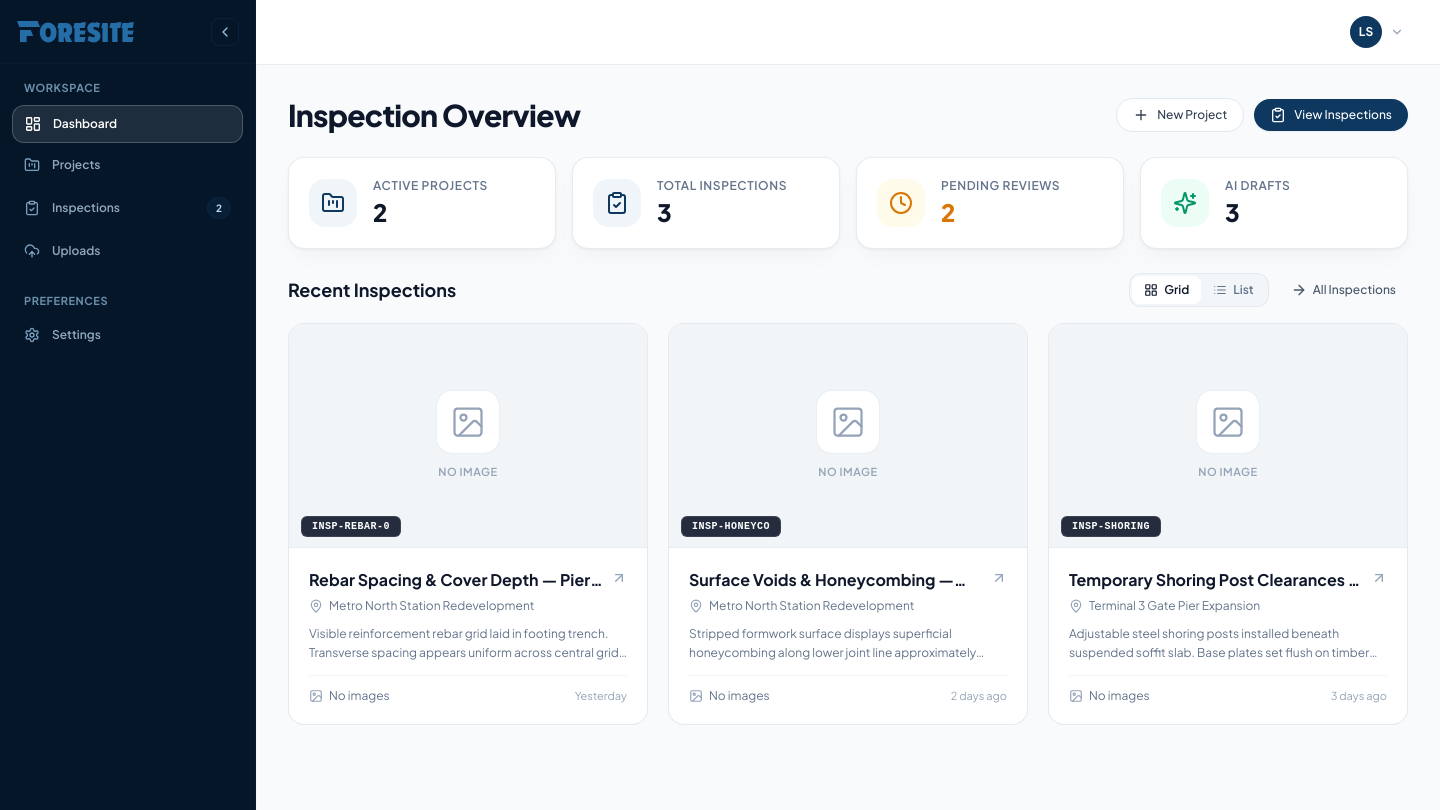
it: ForeSite Application Shell Navigation › navigates to Projects screen when Projects tab is clicked
Click the button "Projects": [128, 164] box [12,146,243,182]
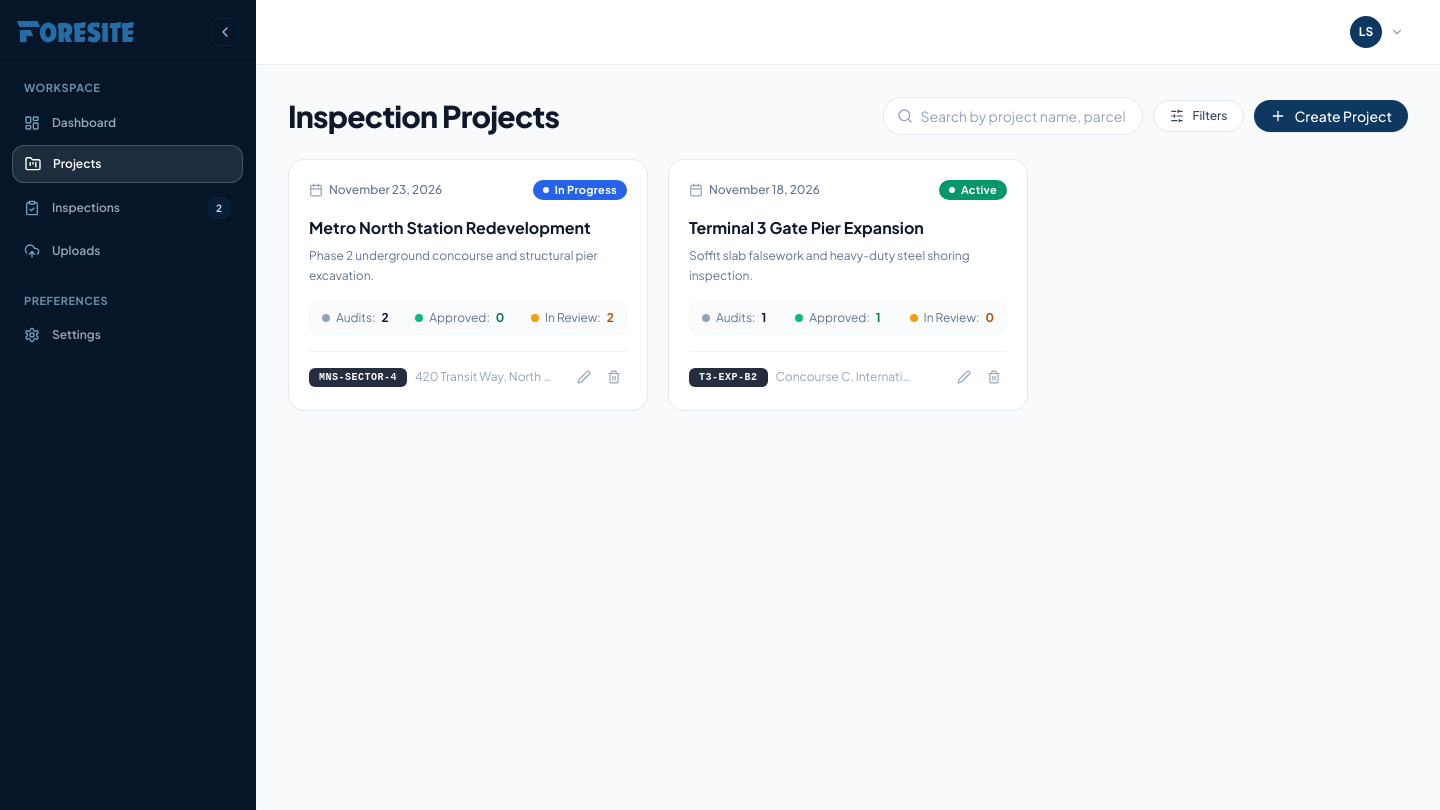
Expected: the heading "Metro North Station Redevelopment" is shown, [309,216,627,240]
Now the heading "Inspection Projects" is shown, box [288,98,559,134]
